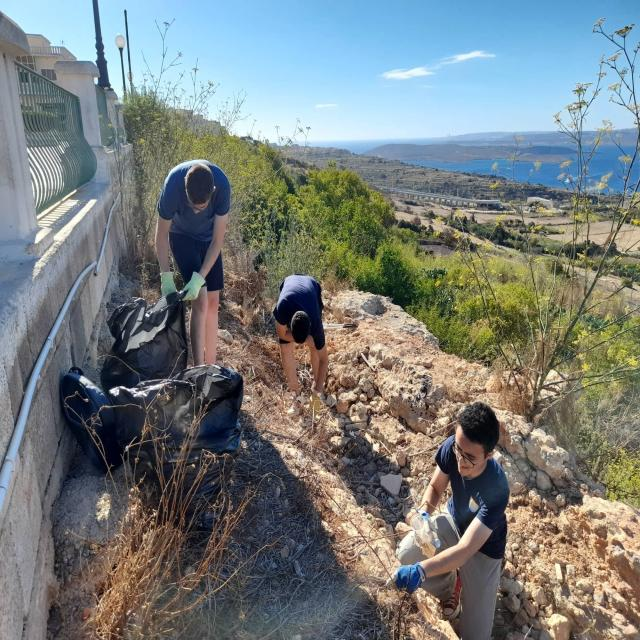Bottle: (432, 531, 441, 550)
Cup: (409, 514, 425, 538)
Plastic bag - wrapper: (61, 290, 244, 516)
